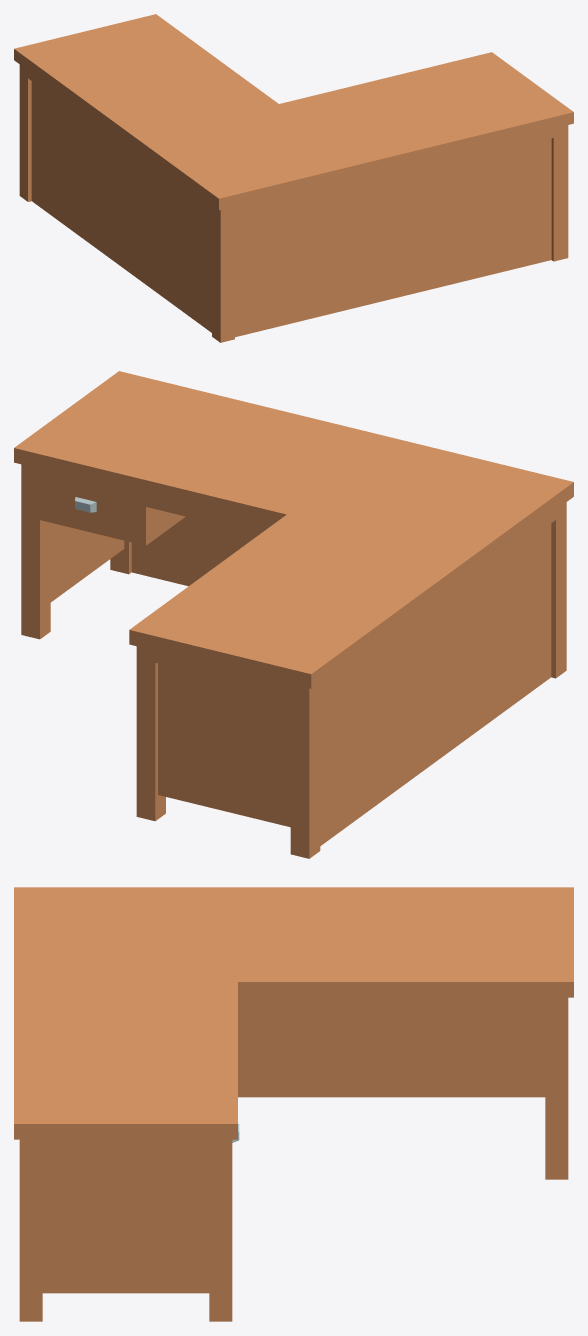
File: Desk Corner.glb
The picture shows the model from 3 angles, top to bottom: view 1: azimuth 30°, elevation 25°; view 2: azimuth 150°, elevation 25°; view 3: azimuth 270°, elevation 25°; orthographic projection. The views are drawn at different scales.
Visible parts, largest first — view 1: deskCorner; view 2: deskCorner, drawer; view 3: deskCorner.
Boxes of the visible parts, x1,y1,x2,y2 form: deskCorner: (14,14,573,342); deskCorner: (14,371,573,858); drawer: (40,481,131,527); deskCorner: (14,887,573,1321).
Size of the model in its own units: 0.9745 by 0.3844 by 0.9745.
